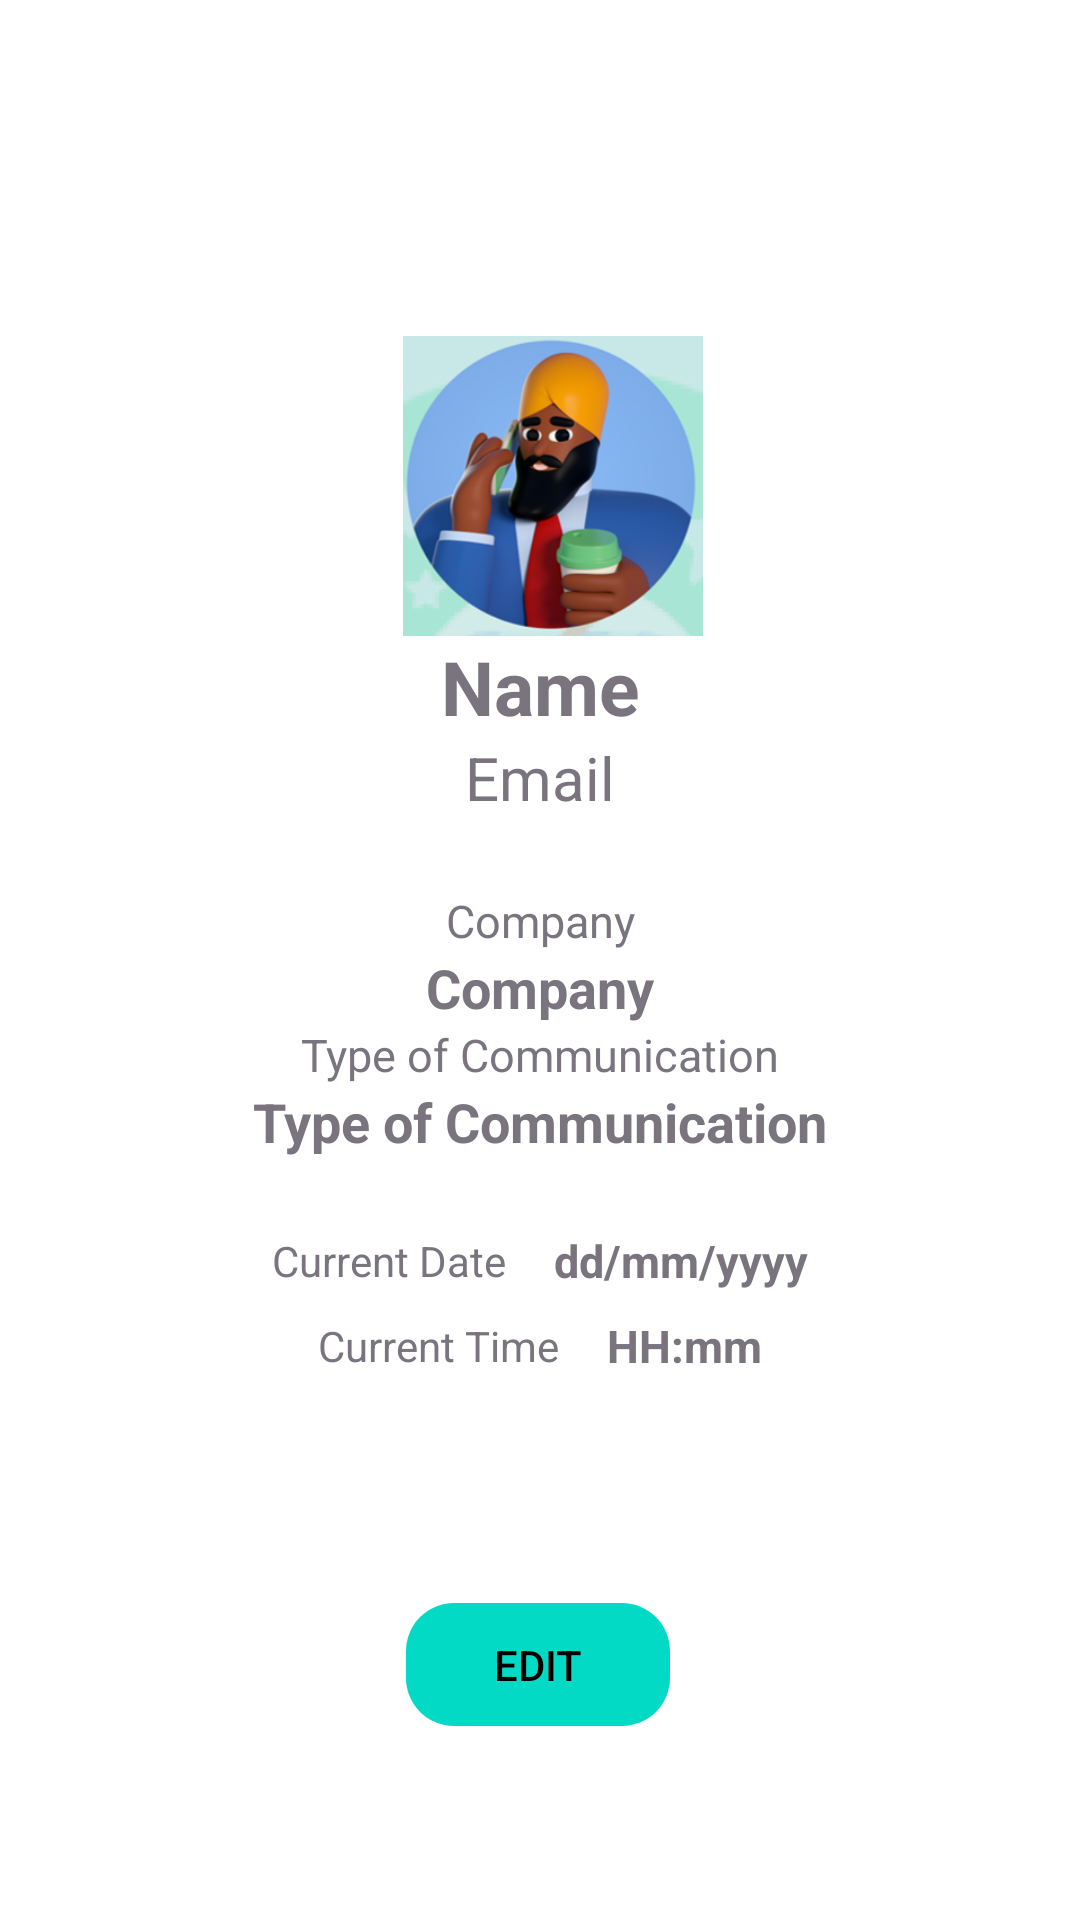

Screen size 1080 x 1920. Icon name, then its center in pixels as (x,y):
foto usuario: (553,486)
